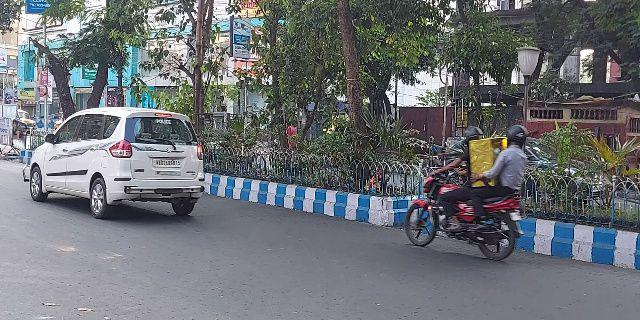Car: (27, 104, 210, 225)
Motorbike: (398, 124, 521, 263)
